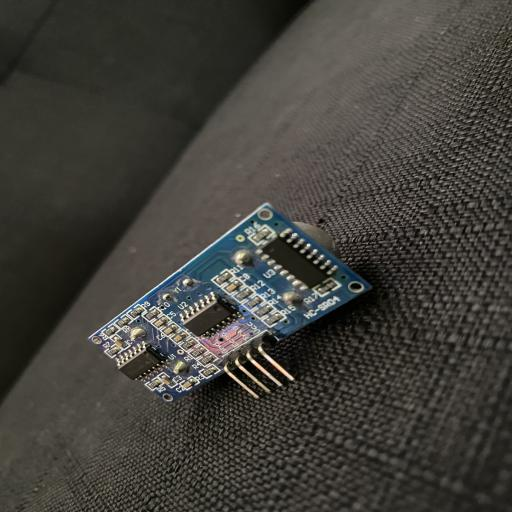Ultrasonic Sensor: (88, 202, 374, 404)
